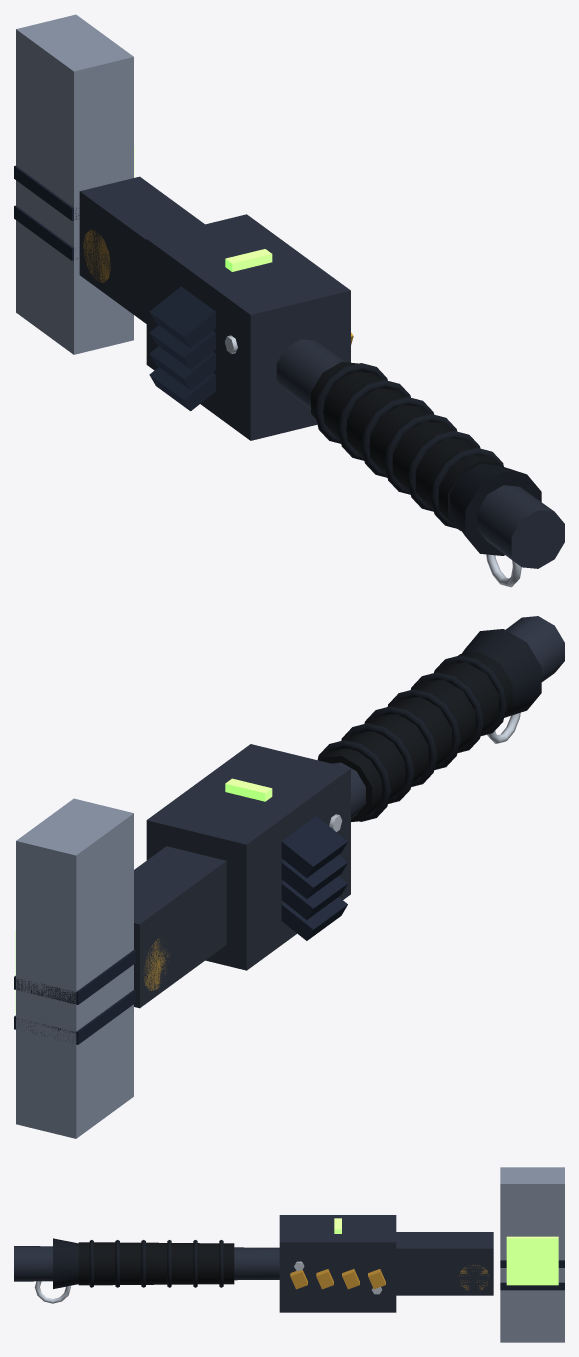
The model's file is weapon_wrench_vm.glb.
The picture shows the model from 3 angles, top to bottom: view 1: azimuth 30°, elevation 25°; view 2: azimuth 150°, elevation 25°; view 3: azimuth 270°, elevation 25°; orthographic projection. The views are drawn at different scales.
Visible parts, largest first — view 1: wrench_motor, wrench_jaw_fixed, wrench_neck, wrench_handle_grip, wrench_jaw_moving, wrench_handle, wrench_motor_vents, wrench_pommel, wrench_grip_ring0, wrench_grip_ring1, wrench_grip_ring2, wrench_worm_gear (+6 smaller); view 2: wrench_jaw_fixed, wrench_motor, wrench_jaw_moving, wrench_neck, wrench_handle_grip, wrench_motor_vents, wrench_pommel, wrench_handle, wrench_jaw_face_b, wrench_grip_ring0, wrench_grip_ring1, wrench_grip_ring2 (+6 smaller); view 3: wrench_motor, wrench_neck, wrench_handle_grip, wrench_jaw_fixed, wrench_jaw_moving, wrench_handle, wrench_jaw_glow, wrench_pommel, wrench_hazard, wrench_jaw_face_a, wrench_lanyard, wrench_grip_ring0 (+4 smaller).
Part boxes in pixels (bbox=[...]): wrench_motor: bbox=[146, 214, 350, 440]; wrench_jaw_fixed: bbox=[16, 14, 133, 260]; wrench_neck: bbox=[79, 176, 204, 323]; wrench_handle_grip: bbox=[311, 362, 502, 530]; wrench_jaw_moving: bbox=[16, 220, 133, 354]; wrench_handle: bbox=[276, 339, 564, 568]; wrench_motor_vents: bbox=[149, 286, 215, 411]; wrench_pommel: bbox=[450, 463, 541, 555]; wrench_grip_ring0: bbox=[315, 363, 387, 443]; wrench_grip_ring1: bbox=[338, 380, 410, 460]; wrench_grip_ring2: bbox=[361, 397, 433, 477]; wrench_worm_gear: bbox=[83, 229, 110, 282]; wrench_jaw_fixed: bbox=[16, 798, 133, 1043]; wrench_motor: bbox=[146, 744, 350, 970]; wrench_jaw_moving: bbox=[16, 1004, 133, 1138]; wrench_neck: bbox=[134, 846, 226, 1008]; wrench_handle_grip: bbox=[320, 652, 512, 821]; wrench_motor_vents: bbox=[281, 816, 347, 940]; wrench_pommel: bbox=[461, 629, 541, 717]; wrench_handle: bbox=[331, 616, 564, 818]; wrench_jaw_face_b: bbox=[14, 949, 135, 1004]; wrench_grip_ring0: bbox=[317, 740, 390, 821]; wrench_grip_ring1: bbox=[341, 723, 414, 803]; wrench_grip_ring2: bbox=[364, 706, 437, 786]; wrench_motor: bbox=[279, 1215, 396, 1312]; wrench_neck: bbox=[396, 1232, 493, 1295]; wrench_handle_grip: bbox=[78, 1242, 234, 1285]; wrench_jaw_fixed: bbox=[500, 1167, 564, 1282]; wrench_jaw_moving: bbox=[500, 1290, 564, 1342]; wrench_handle: bbox=[14, 1246, 279, 1281]; wrench_jaw_glow: bbox=[506, 1236, 558, 1285]; wrench_pommel: bbox=[53, 1238, 78, 1288]; wrench_hazard: bbox=[290, 1269, 385, 1289]; wrench_jaw_face_a: bbox=[500, 1282, 564, 1290]; wrench_lanyard: bbox=[34, 1281, 70, 1303]; wrench_grip_ring0: bbox=[219, 1240, 223, 1287].
Bounding box in the file's own units: 0.0719 × 0.135 × 0.425.
